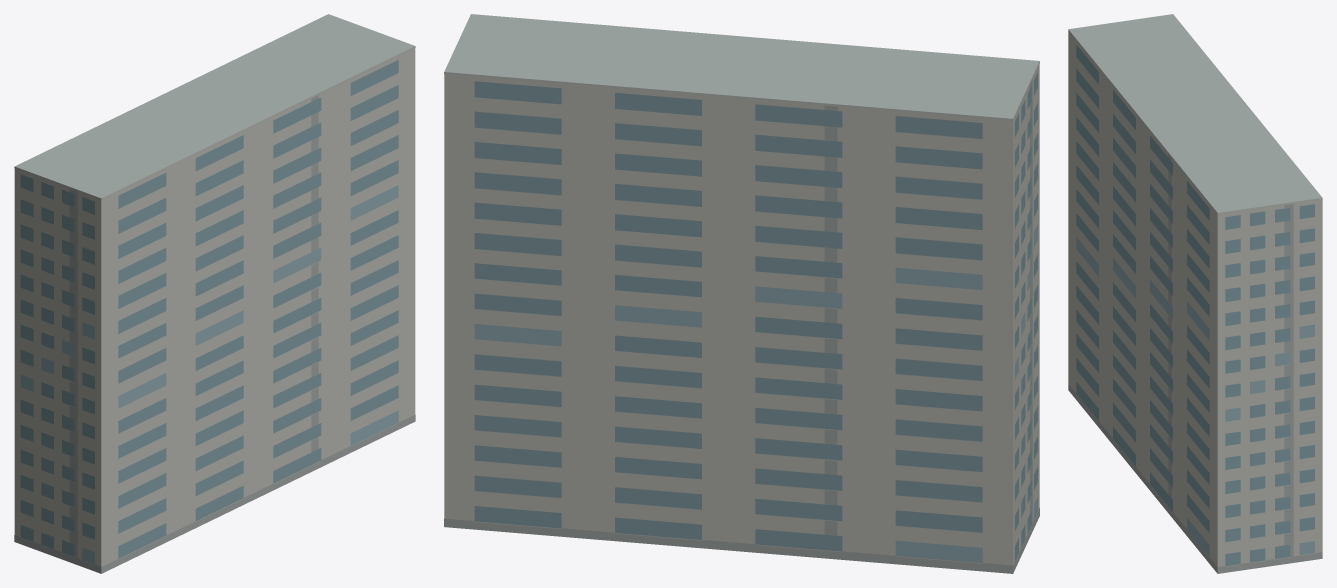
File: residential-3a6fa631-899a-43d3-9639-1cb01a83034b.glb
The picture shows the model from 3 angles, left to right: view 1: azimuth 30°, elevation 25°; view 2: azimuth 150°, elevation 25°; view 3: azimuth 270°, elevation 25°; orthographic projection. The views are drawn at different scales.
Parts seen in each view (by area): view 1: residential-3a6fa631-899a-43d3-9639-1cb01a83034b.tmp; view 2: residential-3a6fa631-899a-43d3-9639-1cb01a83034b.tmp; view 3: residential-3a6fa631-899a-43d3-9639-1cb01a83034b.tmp.
Part boxes in pixels (x1,y1,x2,y2): residential-3a6fa631-899a-43d3-9639-1cb01a83034b.tmp: (14,14,415,573); residential-3a6fa631-899a-43d3-9639-1cb01a83034b.tmp: (444,14,1039,573); residential-3a6fa631-899a-43d3-9639-1cb01a83034b.tmp: (1068,14,1322,573).
Size of the model in its own units: 54.09 by 45.75 by 29.21.
